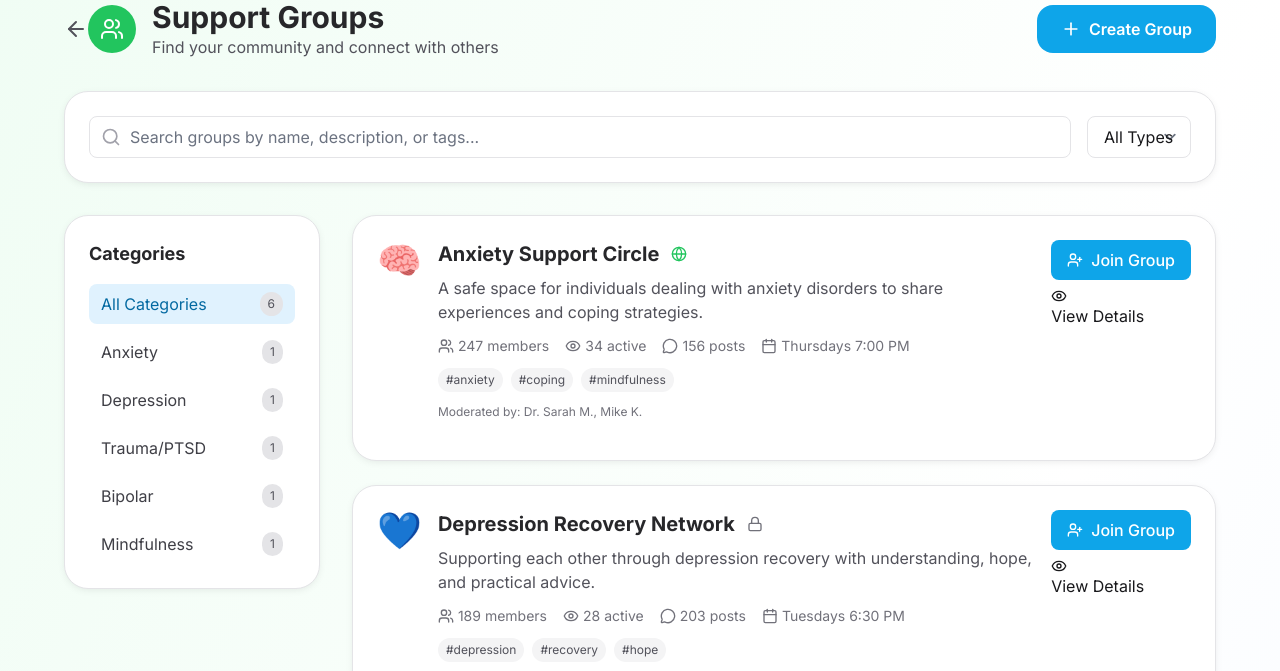
Test: SupportGroupsPage › filters correctly when selecting All Categories
# First select a specific category
Step 1. Click the button "Anxiety 1" → (192, 352), box x1=89 y1=332 x2=295 y2=372
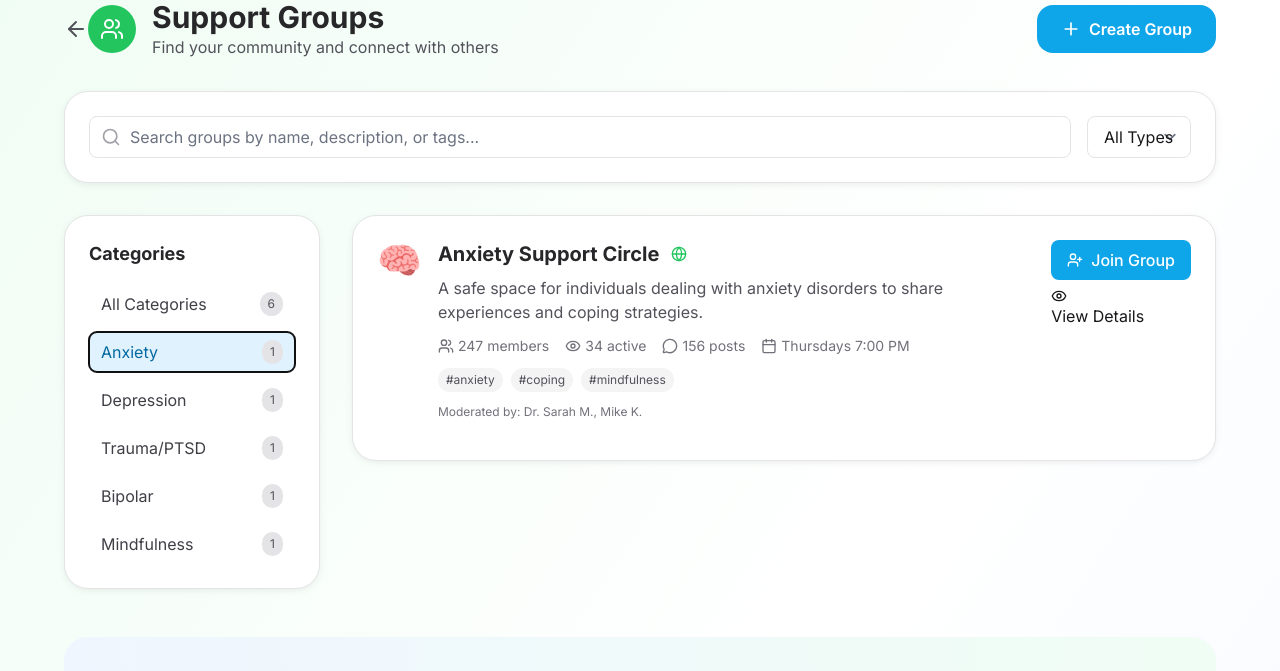
# Then select All Categories
Step 2. Click the button "All Categories 6" → (192, 304), box x1=89 y1=284 x2=295 y2=324
(page scrolled)
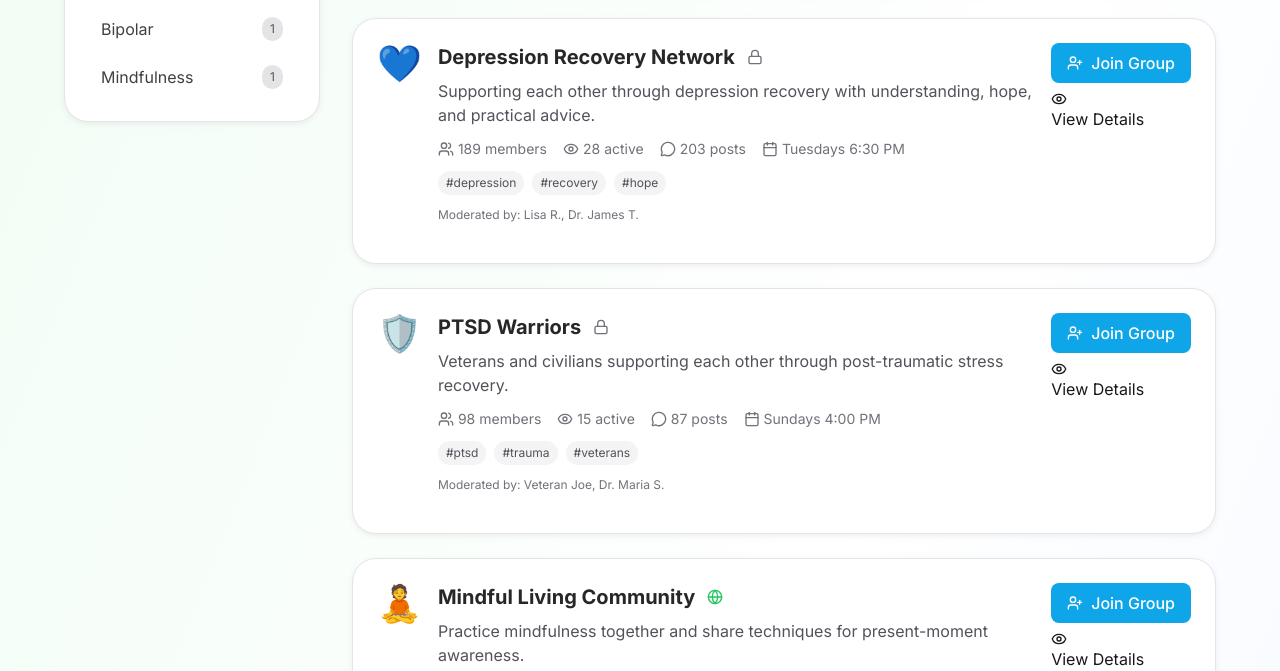
Now the heading "Depression Recovery Network" is shown, box x1=438 y1=43 x2=735 y2=71
Now the heading "PTSD Warriors" is shown, box x1=438 y1=313 x2=581 y2=341
